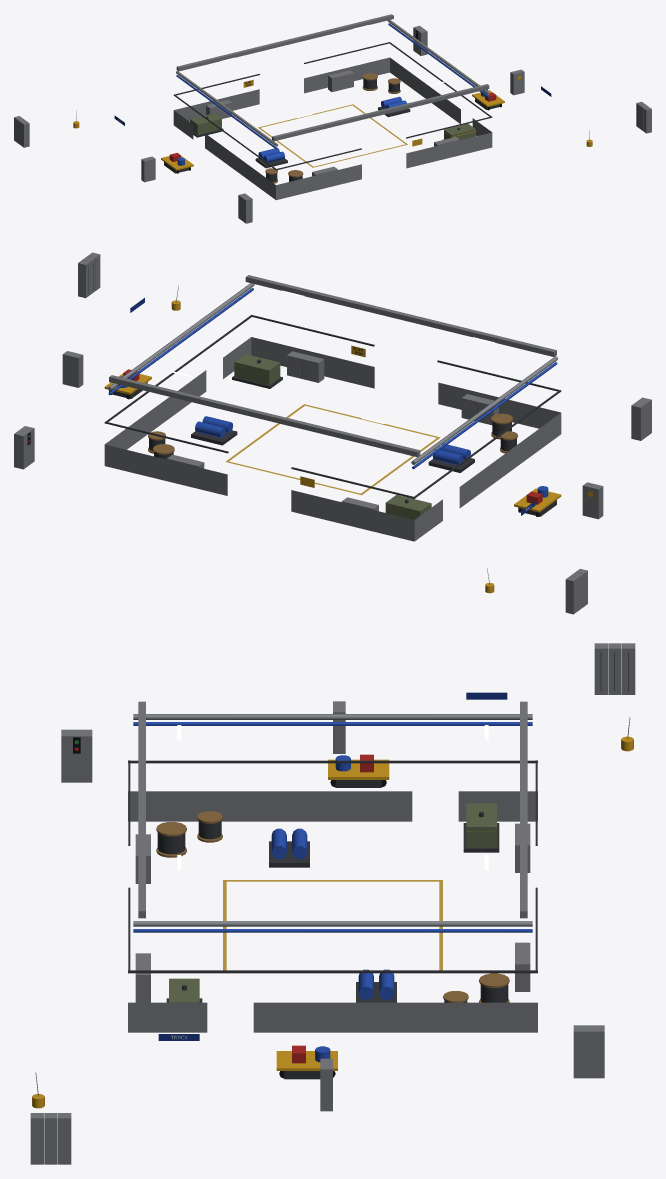
Rendered from ug-plant.glb.
The picture shows the model from 3 angles, top to bottom: view 1: azimuth 30°, elevation 25°; view 2: azimuth 150°, elevation 25°; view 3: azimuth 270°, elevation 25°; orthographic projection. The views are drawn at different scales.
Visible parts, largest first — view 1: ug-plant; view 2: ug-plant; view 3: ug-plant.
Boxes of the visible parts, box(x1,y1,x2,y2) form: ug-plant: box(14, 14, 651, 223); ug-plant: box(14, 252, 651, 614); ug-plant: box(30, 643, 635, 1164).
Bounding box in the file's own units: 43.9 × 5.58 × 23.6.
